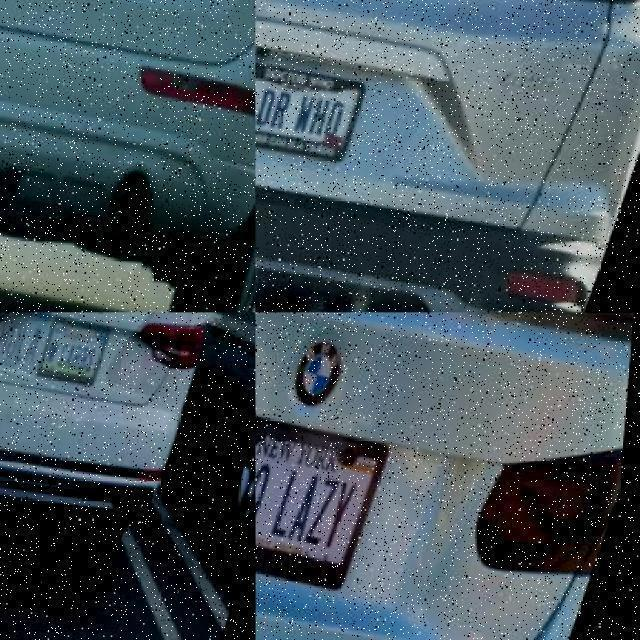License Plate: (254, 419, 395, 595), (254, 64, 372, 165), (32, 0, 143, 48)
